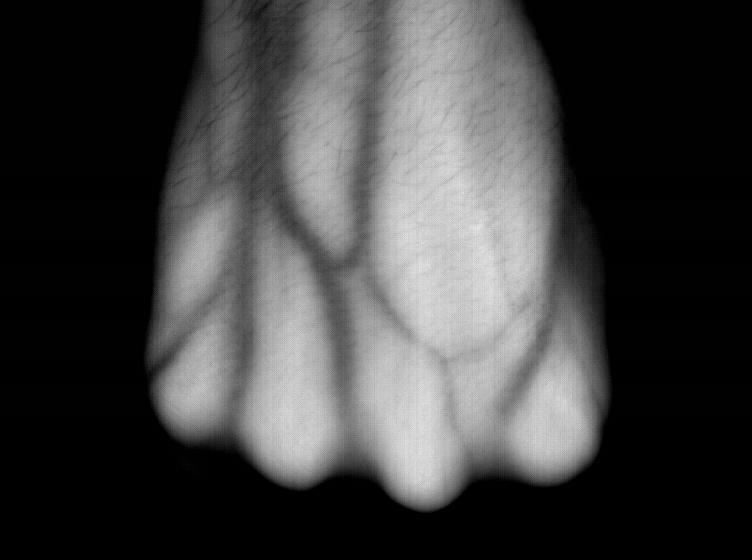Vein: (184, 11, 385, 375)
